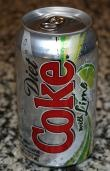grozi_54: (13, 5, 97, 167)
